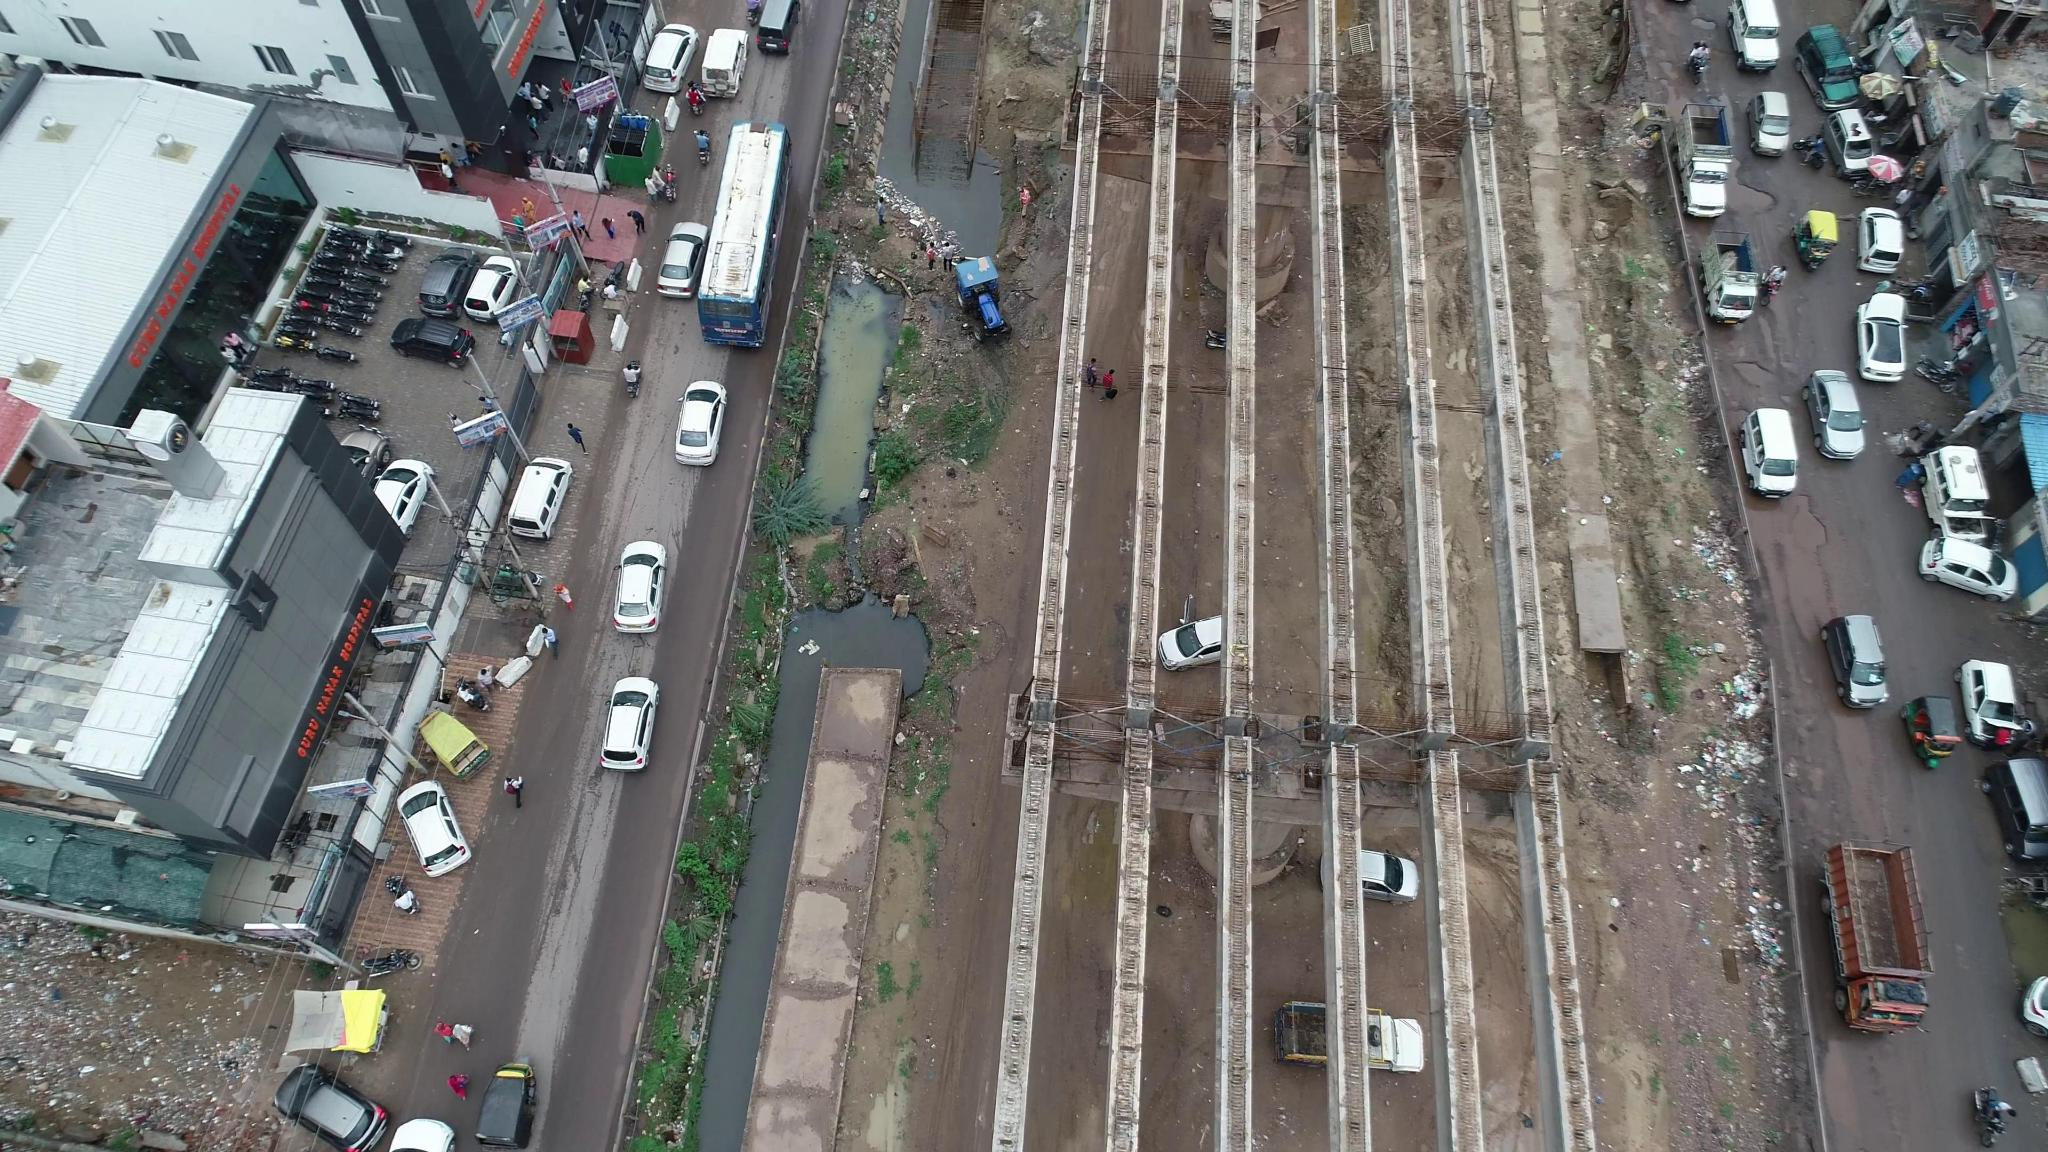Potholes: (1730, 345, 1789, 397)
